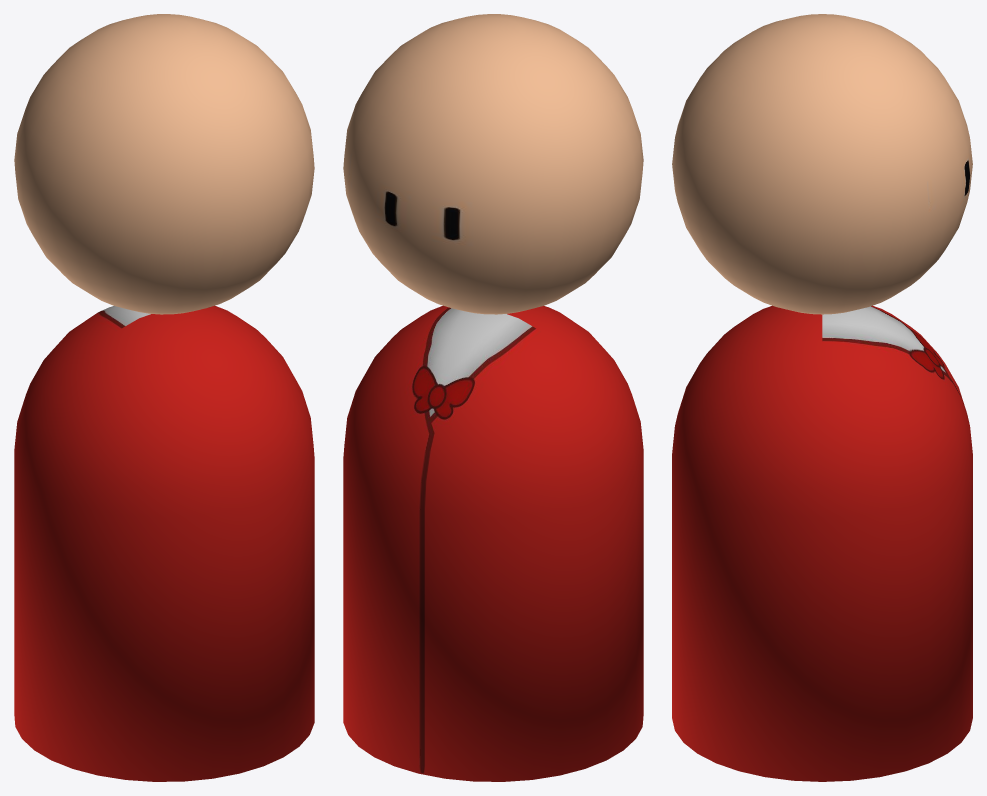
The model's file is Croupier.fbx.
3 renders of one model, left to right at view 1: azimuth 30°, elevation 25°; view 2: azimuth 150°, elevation 25°; view 3: azimuth 270°, elevation 25°, orthographic.
Parts seen in each view (by area): view 1: corp, tete; view 2: corp, tete; view 3: corp, tete.
Boxes of the visible parts, bbox=[...] form: corp: bbox=[14, 305, 314, 781]; tete: bbox=[14, 14, 314, 314]; corp: bbox=[343, 305, 643, 781]; tete: bbox=[343, 14, 643, 314]; corp: bbox=[672, 305, 972, 781]; tete: bbox=[672, 14, 972, 314].
Bounding box in the file's own units: 120 × 304 × 120.
